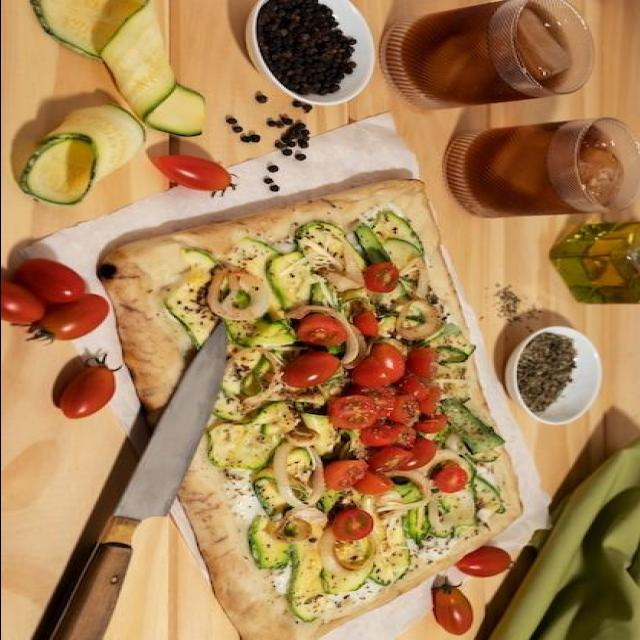pizza: (96, 179, 522, 640)
